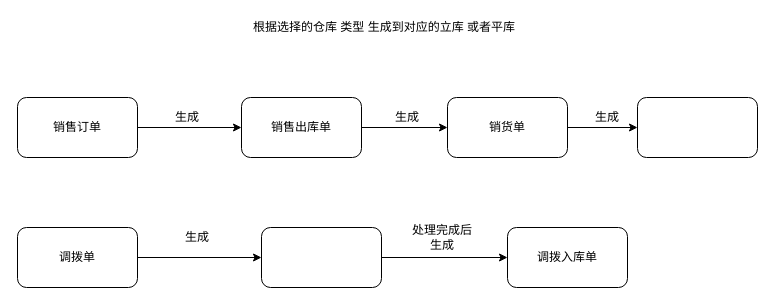
Some shapes in this 775 by 305 pixel diagram are drawn without their labels. Here are the shapes that lost their labels. From the top down, the centre of each, then its label:
point (697, 127): 拒收入库单
point (321, 257): 调拨出库单
